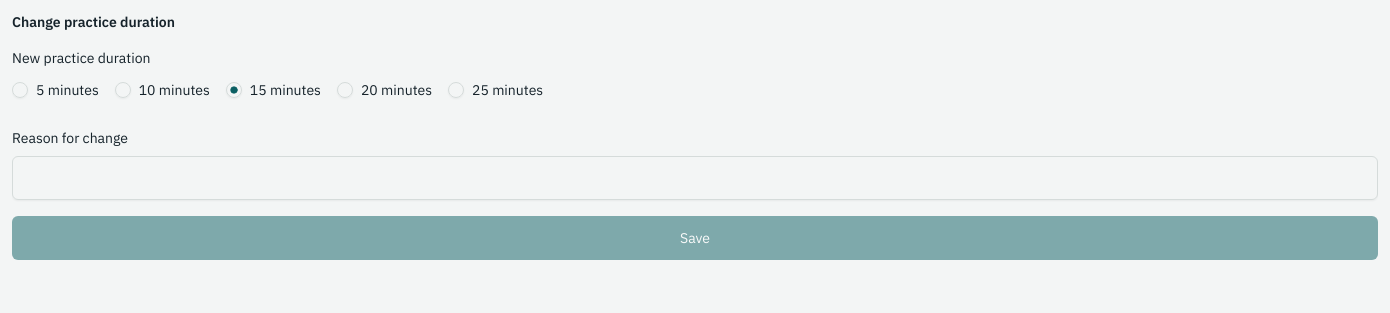
ChangePracticeDuration › 422 effective_day_in_past renders the banner defensively
This screenshot has width=1390, height=313.
Expected: the radio button named "15 minutes" next to "15" is shown, [226,82,242,98]
Click the radio button named "20 minutes" next to "20" at point(345, 90), box [337,82,353,98]
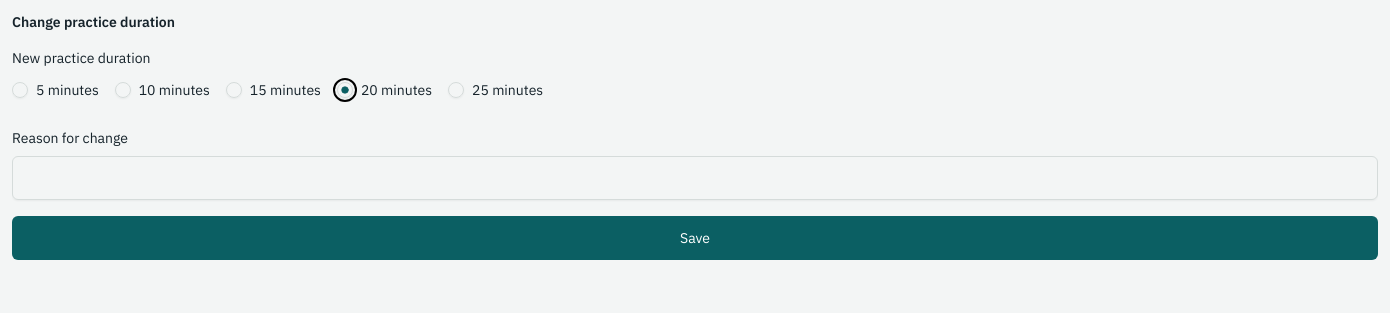
Type "a typed reason" into the field labelled "Reason for change" at point(695, 178), box [12,156,1378,200]
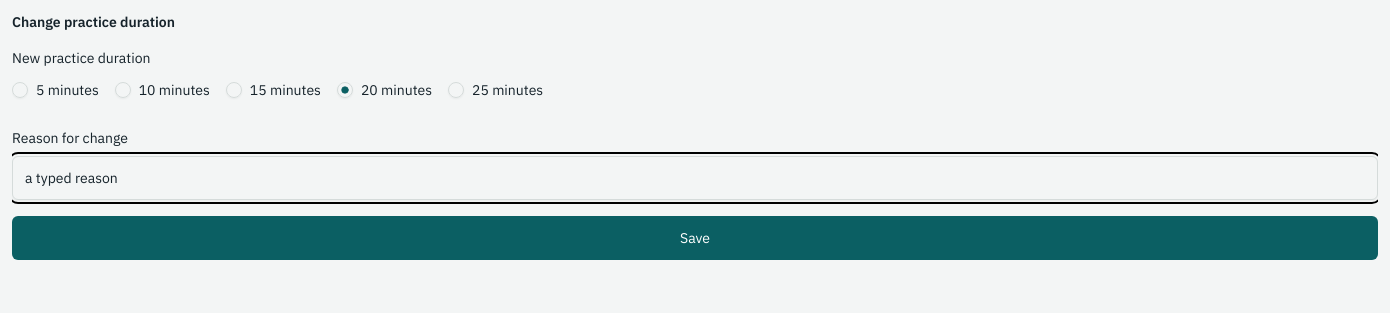
Click the button "Save" at point(695, 238), box [12,216,1378,260]
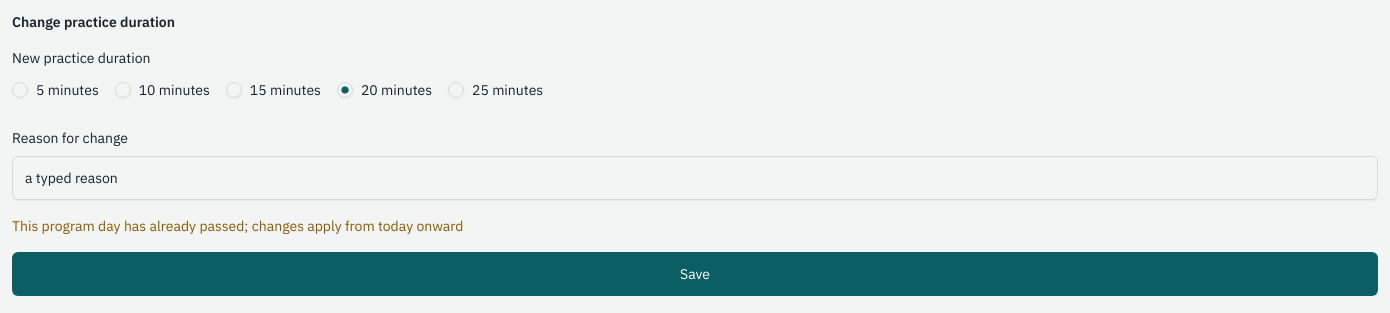
Now the text "This program day has already passed; changes apply from today onward" is shown, box [12,217,463,235]
